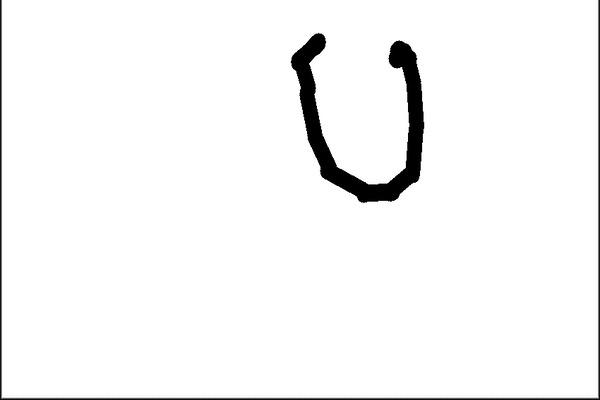U: (280, 24, 429, 204)
